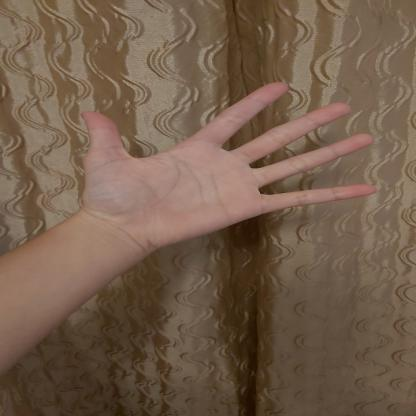bare_hand: (65, 74, 388, 262)
